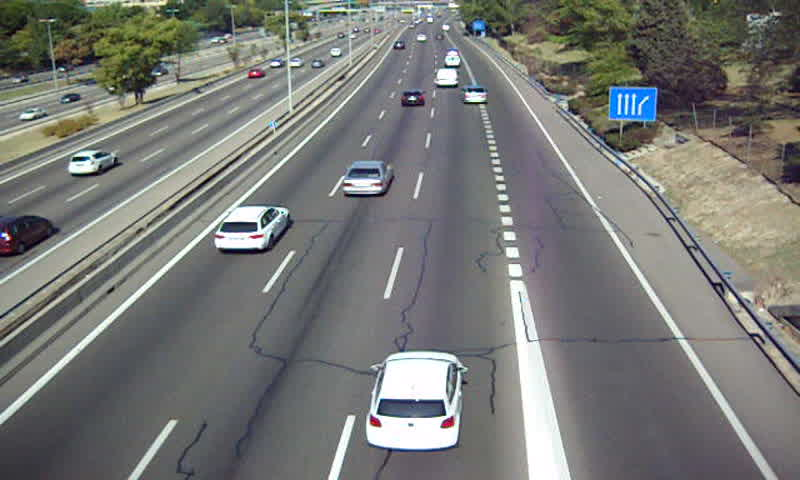car: (365, 351, 467, 452), (213, 206, 289, 252), (342, 161, 394, 199), (462, 84, 489, 105), (399, 90, 426, 108)
van: (434, 67, 459, 88), (446, 54, 462, 68)
